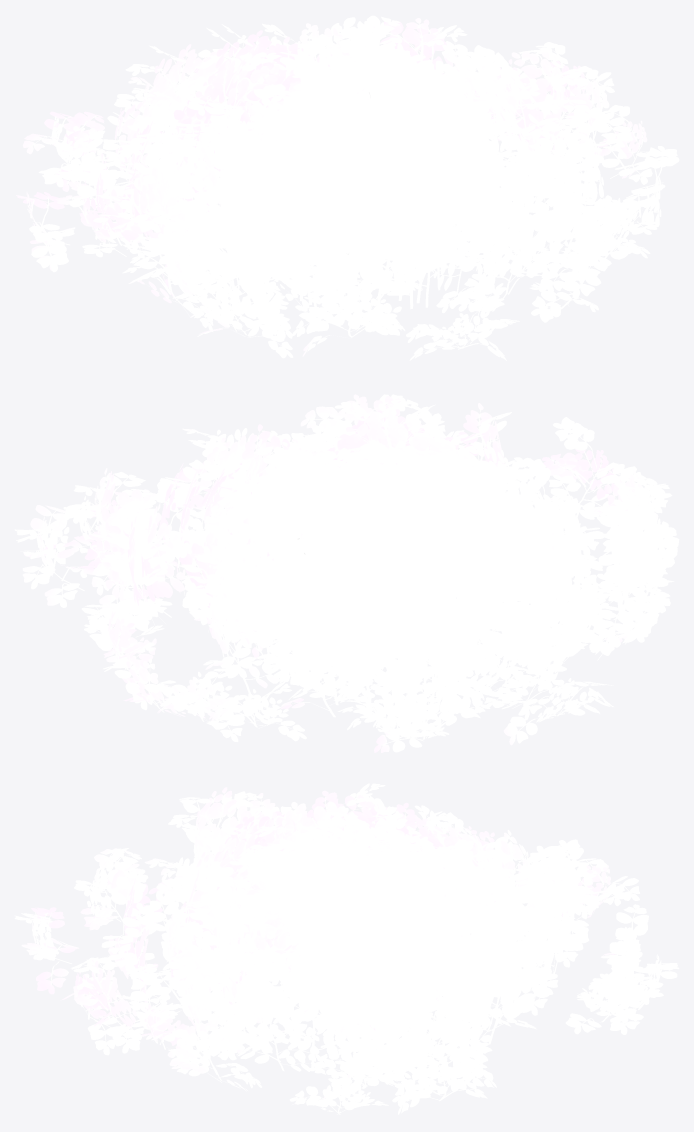
3 views of the same model, one above another, from view 1: azimuth 30°, elevation 25°; view 2: azimuth 150°, elevation 25°; view 3: azimuth 270°, elevation 25° (orthographic). The views are drawn at different scales.
Visible parts, largest first — view 1: SM_Medium_Bush_01_B_LOD0; view 2: SM_Medium_Bush_01_B_LOD0; view 3: SM_Medium_Bush_01_B_LOD0.
Part boxes in pixels (x1,y1,x2,y2): SM_Medium_Bush_01_B_LOD0: [16, 15, 679, 360]; SM_Medium_Bush_01_B_LOD0: [14, 394, 679, 752]; SM_Medium_Bush_01_B_LOD0: [14, 783, 679, 1114].
Size of the model in its own units: 3.39 by 1.26 by 3.62.
Materials: 1 (1 with a texture image).
